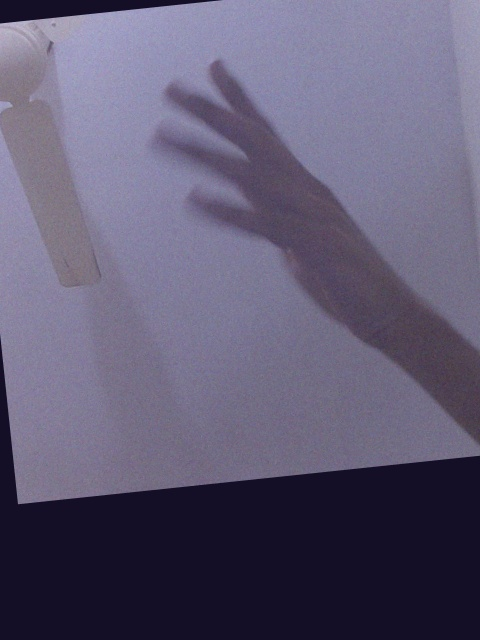hand: (140, 53, 415, 370)
